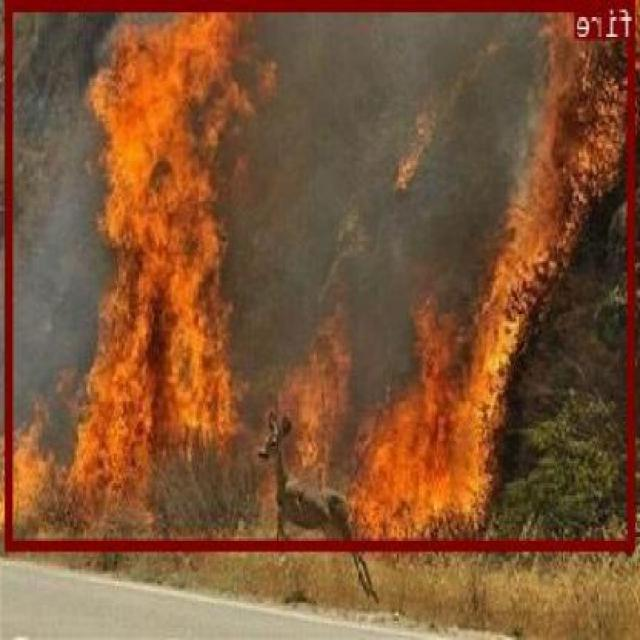Fire: (8, 0, 637, 546)
